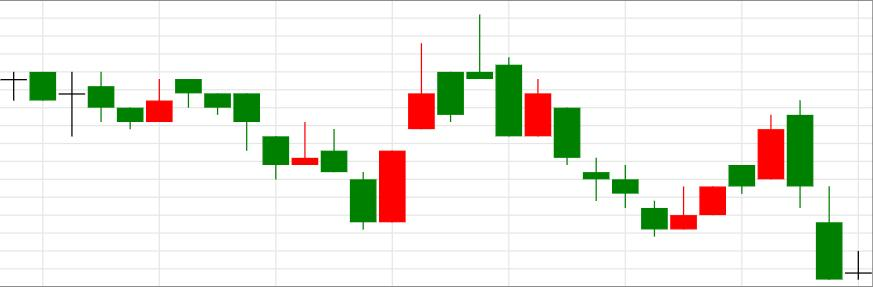bearish_engulfing_fall: (641, 100, 815, 236)
bullish_engulfing_rise: (175, 79, 407, 231)
